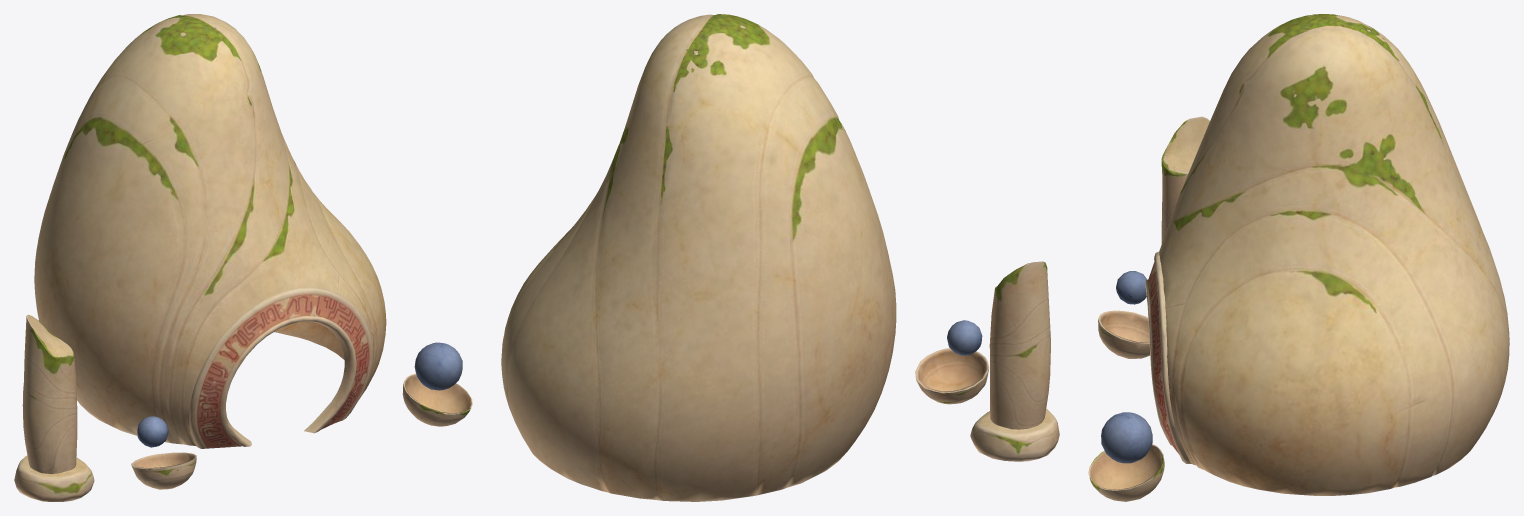
File: sky_hut_a.glb
The picture shows the model from 3 angles, left to right: view 1: azimuth 30°, elevation 25°; view 2: azimuth 150°, elevation 25°; view 3: azimuth 270°, elevation 25°; orthographic projection. The views are drawn at different scales.
Parts seen in each view (by area): view 1: hut_a; view 2: hut_a; view 3: hut_a.
Boxes of the visible parts, bbox=[...] form: hut_a: bbox=[14, 14, 472, 501]; hut_a: bbox=[501, 14, 1059, 501]; hut_a: bbox=[1088, 14, 1509, 501].
Bounding box in the file's own units: 8.7 × 7.36 × 7.06.
Materials: 1 (1 with a texture image).
